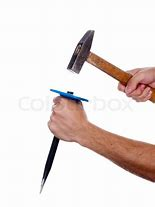hammer: (65, 27, 155, 105)
